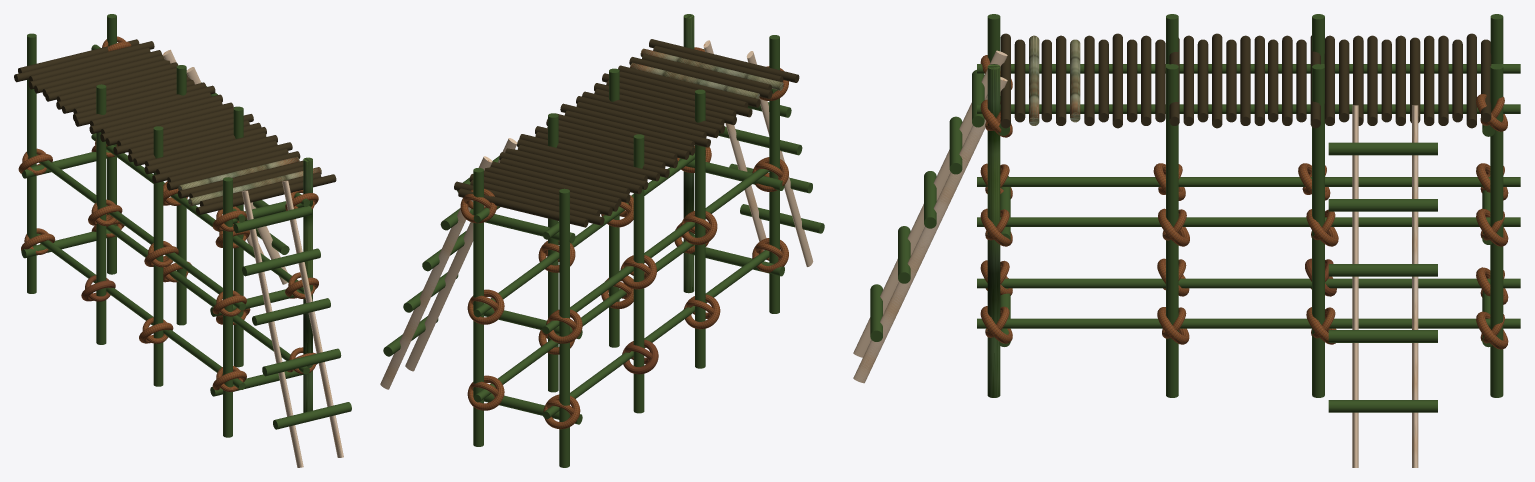
Rendered from AndamioElf.fbx.
The picture shows the model from 3 angles, left to right: view 1: azimuth 30°, elevation 25°; view 2: azimuth 150°, elevation 25°; view 3: azimuth 270°, elevation 25°; orthographic projection. The views are drawn at different scales.
Parts seen in each view (by area): view 1: Andamio; view 2: Andamio; view 3: Andamio.
Boxes of the visible parts, bbox=[...] form: Andamio: bbox=[14, 14, 351, 467]; Andamio: bbox=[380, 14, 824, 467]; Andamio: bbox=[853, 14, 1520, 467].
Bounding box in the file's own units: 287 × 307 × 564.
4 materials, 4 textured.
